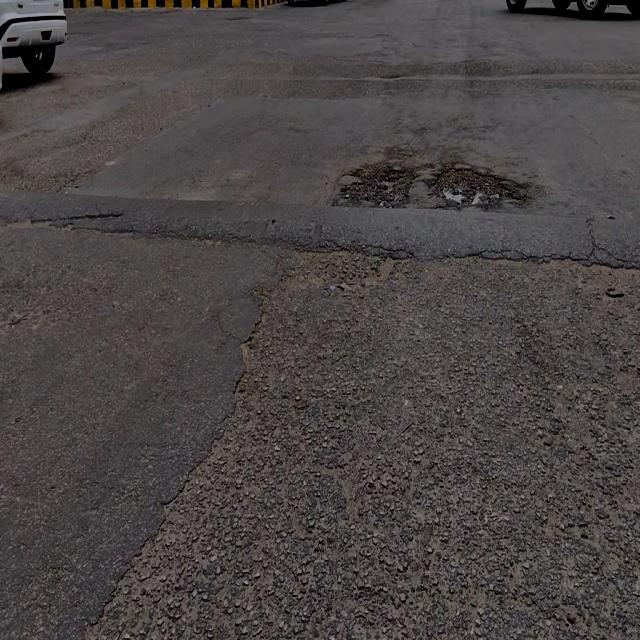Potholes: (428, 164, 520, 211), (343, 158, 418, 205)
